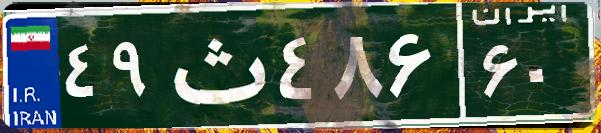0: (525, 38, 570, 115)
4: (273, 28, 330, 110), (57, 26, 110, 107)
6: (385, 28, 445, 110), (475, 38, 525, 113)
8: (330, 28, 385, 110)
9: (110, 28, 158, 105)
ث: (158, 15, 273, 115)
